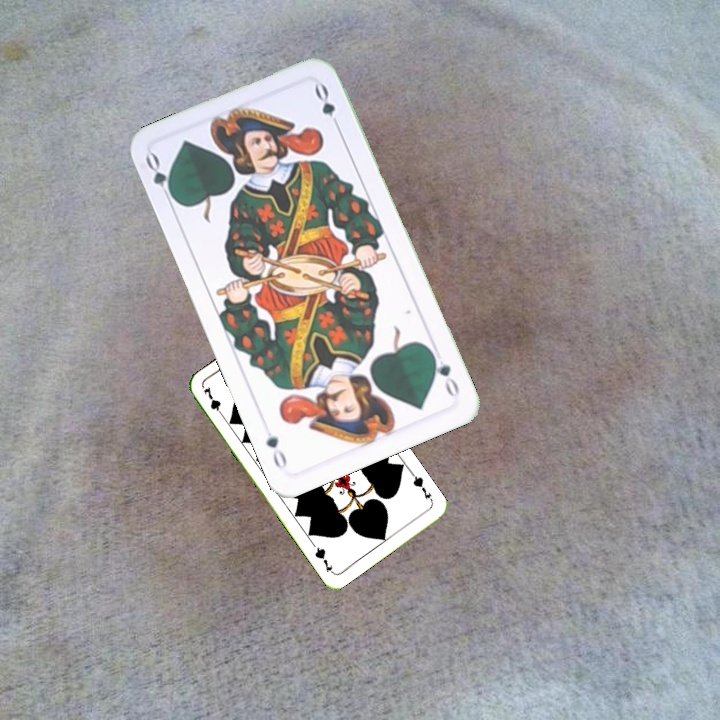G7: (199, 383, 228, 421), (407, 469, 436, 505)
GO: (141, 149, 179, 207), (426, 346, 462, 399)
